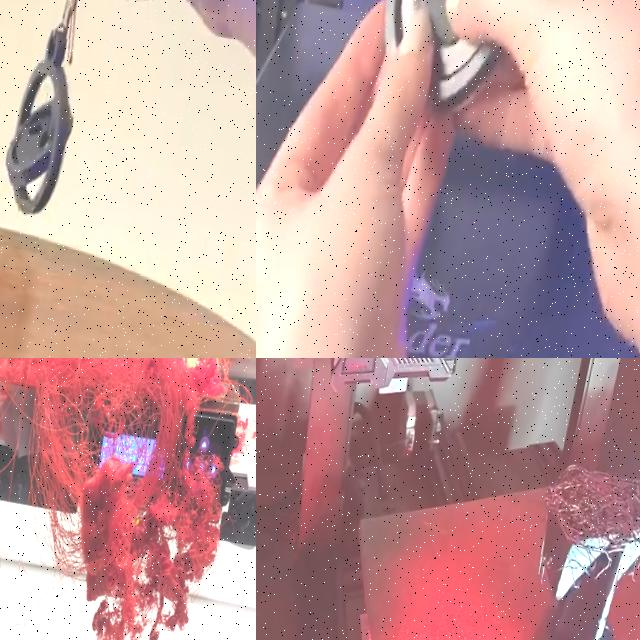spaghetti: (520, 439, 640, 615)
